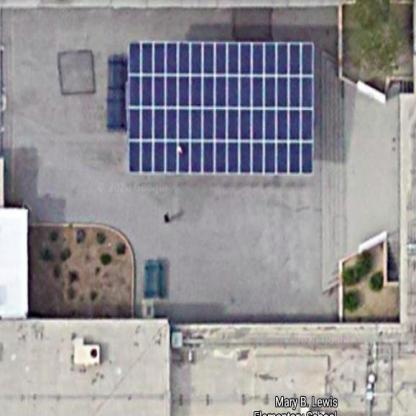solar_panel: (116, 23, 323, 183)
